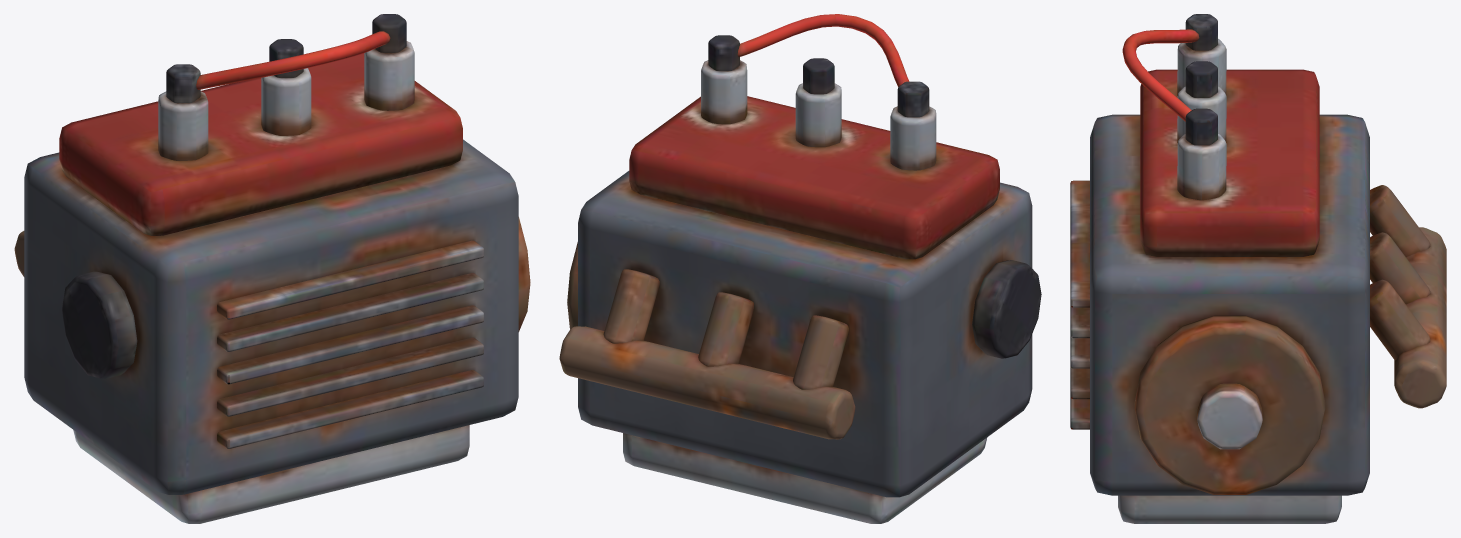
The model's file is engine.glb.
The picture shows the model from 3 angles, left to right: view 1: azimuth 30°, elevation 25°; view 2: azimuth 150°, elevation 25°; view 3: azimuth 270°, elevation 25°; orthographic projection. The views are drawn at different scales.
Parts seen in each view (by area): view 1: body; view 2: body; view 3: body.
Part boxes in pixels (x1=…): body: x1=14, y1=14, x2=530, y2=523; body: x1=559, y1=14, x2=1041, y2=523; body: x1=1070, y1=14, x2=1446, y2=523.
Size of the model in its own units: 0.855 by 0.822 by 0.6717.
Materials: 1 (1 with a texture image).
